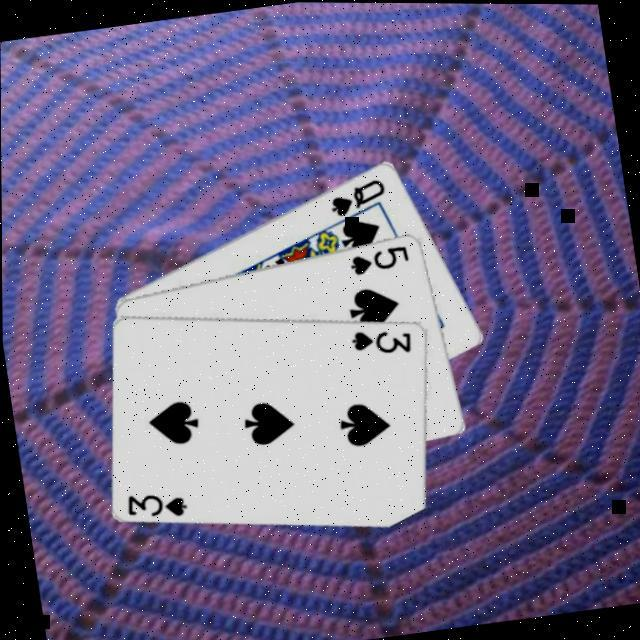3S: (346, 318, 416, 362), (121, 484, 190, 524)
5S: (344, 240, 412, 278)
QS: (324, 173, 391, 219)
